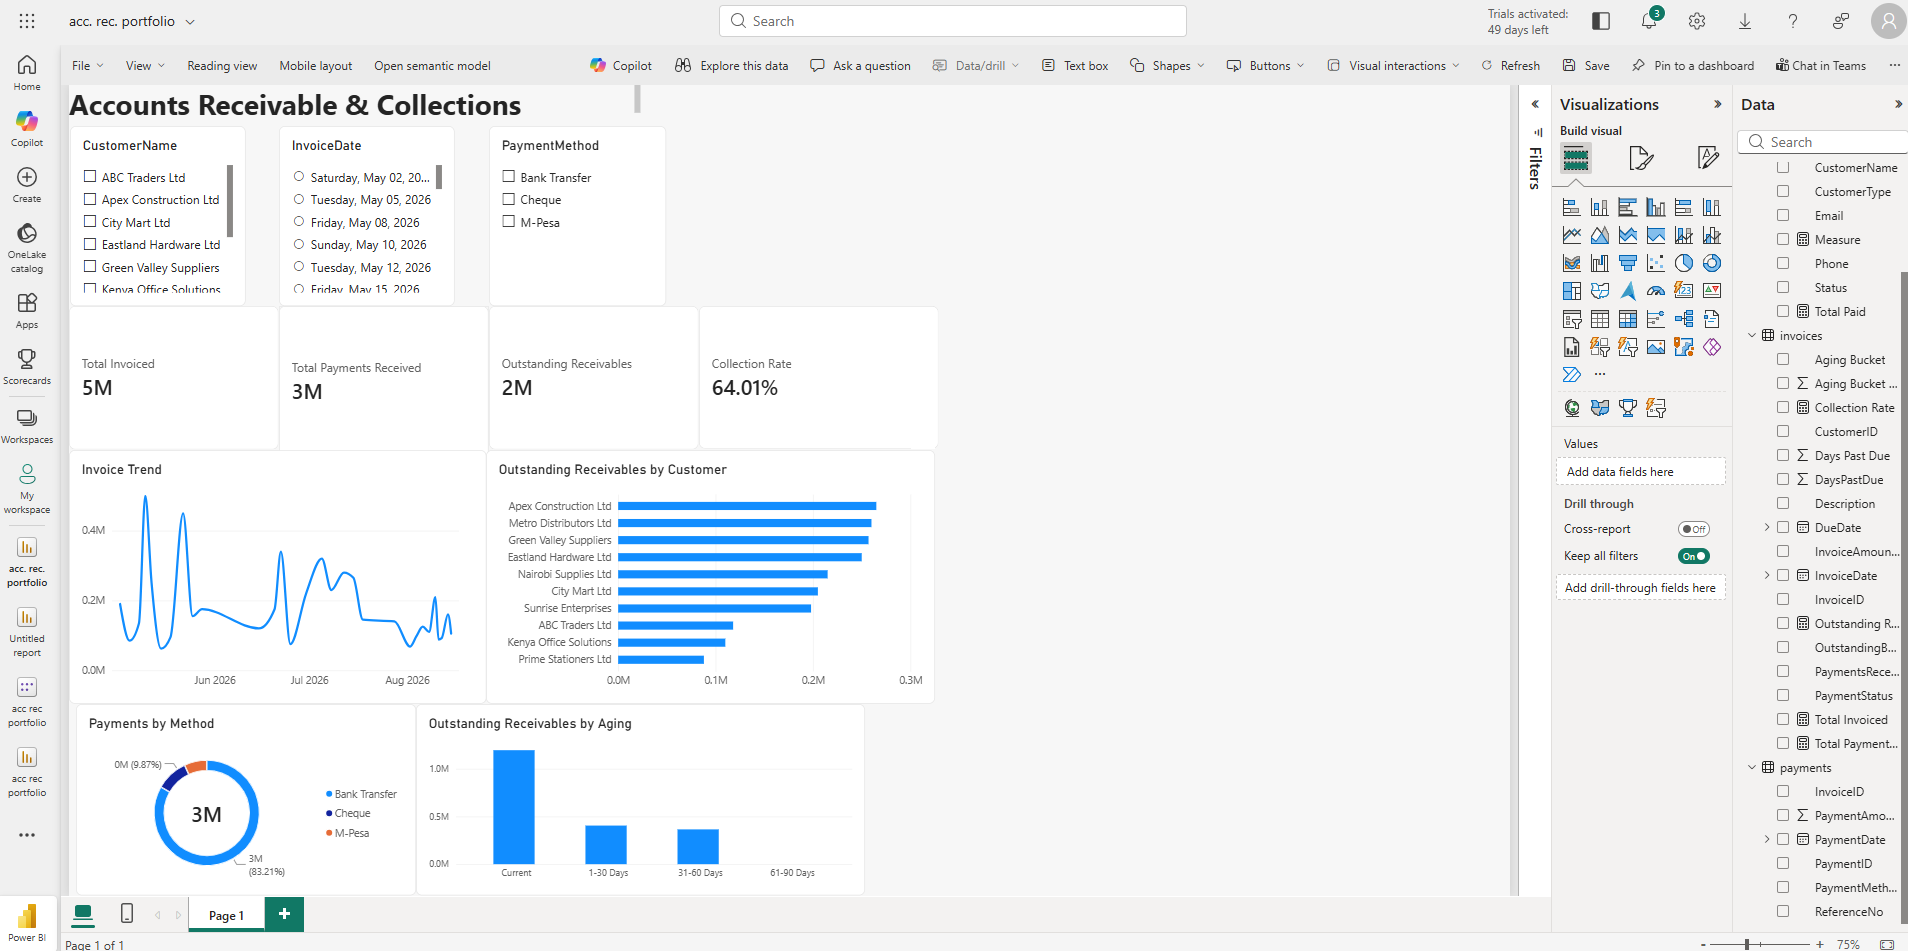

The dashboard page shown, as its layout file describes it:
{"tool":"powerbi","page":{"name":"Page 1","canvas":[1920,1080],"ordinal":0},"visuals":[{"type":"tableEx","fields":{"Values":["invoices.Total Invoiced"]},"box":[0,60,280,134],"z":0},{"type":"tableEx","fields":{"Values":["invoices.Total Payments Received"]},"box":[280,60,280,134],"z":1},{"type":"tableEx","fields":{"Values":["invoices.Outstanding Receivables"]},"box":[562,60,278,134],"z":2},{"type":"cardVisual","fields":{"Data":["invoices.Collection Rate"]},"box":[304,60,319.6,190.4],"z":3},{"type":"lineChart","title":"Invoice Trend","fields":{"Category":["invoices.InvoiceDate"],"Y":["invoices.Total Invoiced"]},"box":[0,486.4,555.9,338.4],"z":4},{"type":"clusteredBarChart","title":"Outstanding Receivables by Customer","fields":{"Category":["customers.CustomerName"],"Y":["invoices.Outstanding Receivables"]},"box":[555.9,486.4,598.2,338.4],"z":5},{"type":"donutChart","title":"Payments by Method","fields":{"Category":["payments.PaymentMethod"],"Y":["Sum(payments.PaymentAmount (KSh))"]},"box":[9.1,824.8,453.2,255.3],"z":6},{"type":"clusteredColumnChart","title":"Outstanding Receivables by Aging","fields":{"Category":["invoices.Aging Bucket"],"Y":["invoices.Outstanding Receivables"]},"box":[462.3,824.8,598.2,255.3],"z":7},{"type":"textbox","box":[0,0,761.4,60.4],"z":8},{"type":"listSlicer","fields":{"Values":["customers.CustomerName"]},"box":[0,246,234.4,239.7],"z":9},{"type":"listSlicer","fields":{"Values":["invoices.InvoiceDate"]},"box":[298,246,234.4,239.7],"z":10},{"type":"listSlicer","fields":{"Values":["payments.PaymentMethod"]},"box":[604,246,235.7,239.7],"z":11}]}

Visuals, with their boxes on the page's 1920x1080 design canvas (x1, y1, x2, y2). These are canvas units, not pixel positions in the 1908x951 screenshot, which may show the page scaled, cropped or inside an application window:
tableEx - invoices.Total Invoiced: pyautogui.locateOnScreen(0, 60, 280, 194)
tableEx - invoices.Total Payments Received: pyautogui.locateOnScreen(280, 60, 560, 194)
tableEx - invoices.Outstanding Receivables: pyautogui.locateOnScreen(562, 60, 840, 194)
cardVisual - invoices.Collection Rate: pyautogui.locateOnScreen(304, 60, 624, 250)
"Invoice Trend" lineChart: pyautogui.locateOnScreen(0, 486, 556, 825)
"Outstanding Receivables by Customer" clusteredBarChart: pyautogui.locateOnScreen(556, 486, 1154, 825)
"Payments by Method" donutChart: pyautogui.locateOnScreen(9, 825, 462, 1080)
"Outstanding Receivables by Aging" clusteredColumnChart: pyautogui.locateOnScreen(462, 825, 1060, 1080)
textbox: pyautogui.locateOnScreen(0, 0, 761, 60)
listSlicer - customers.CustomerName: pyautogui.locateOnScreen(0, 246, 234, 486)
listSlicer - invoices.InvoiceDate: pyautogui.locateOnScreen(298, 246, 532, 486)
listSlicer - payments.PaymentMethod: pyautogui.locateOnScreen(604, 246, 840, 486)
